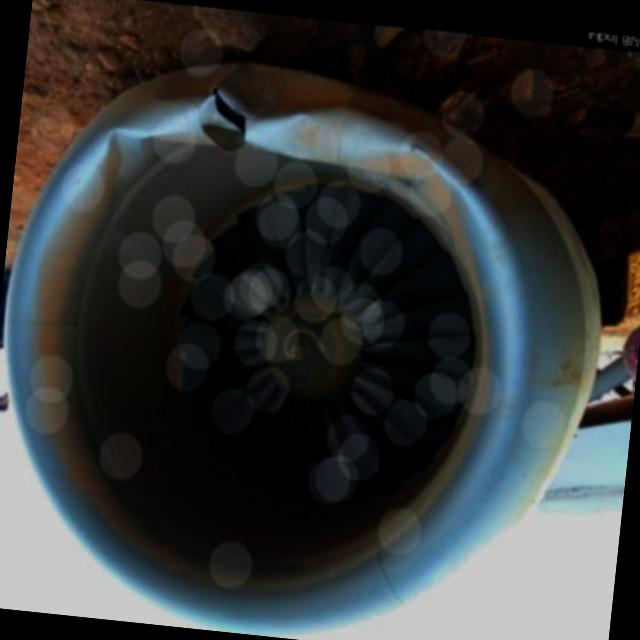crack: (204, 85, 249, 136)
dent: (251, 95, 411, 170), (88, 122, 152, 193), (189, 101, 239, 154)
